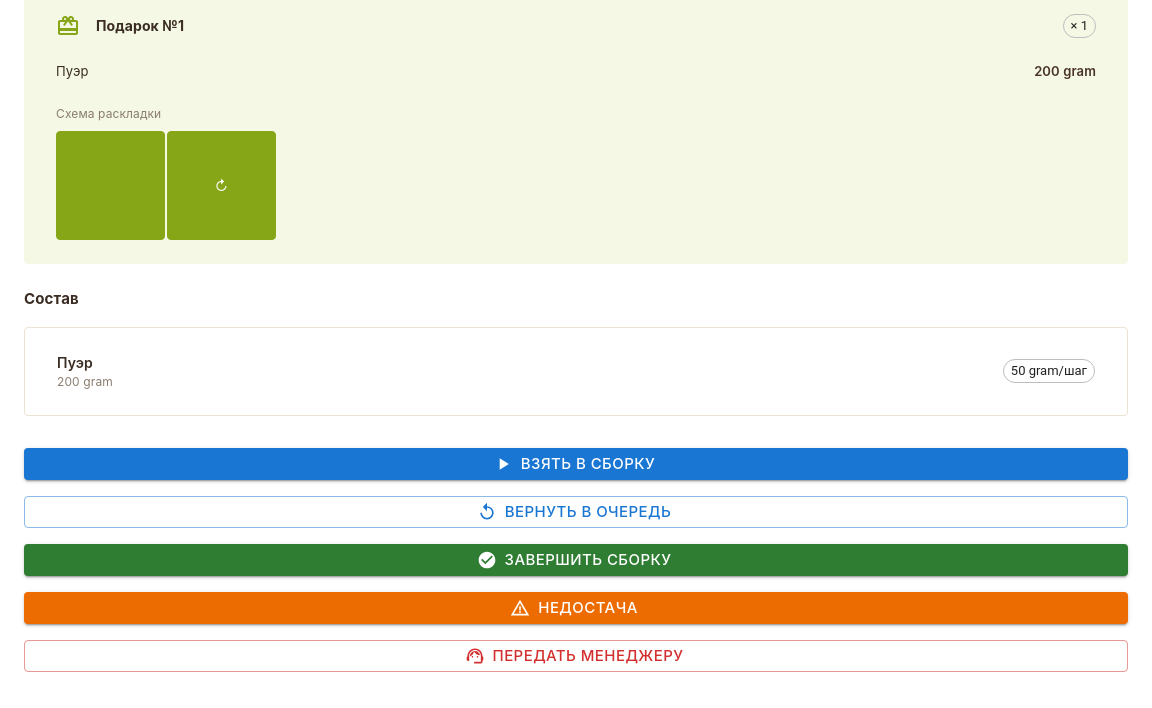
Test: PickerOrderPage › кнопка «Завершить сборку» вызывает complete
(page scrolled)
Step 1. Click the button "Завершить сборку" → click(576, 560), box [24,544,1128,576]
(page scrolled)
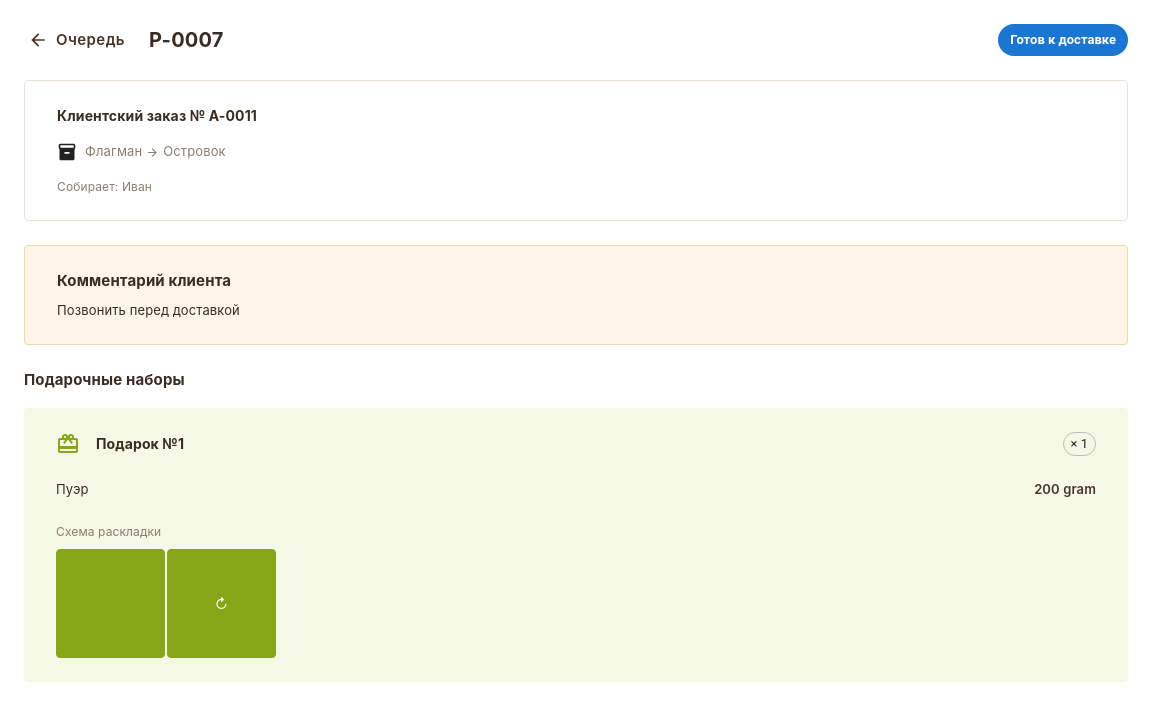
Result: the text "Готов к доставке" is shown at [1010,32,1116,47]
